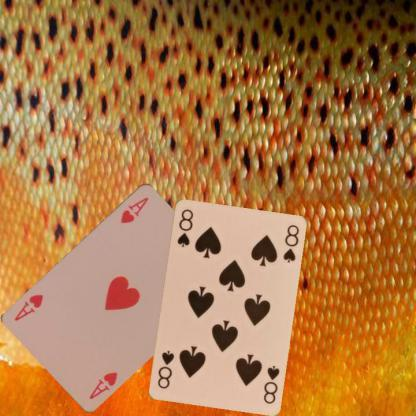8s: (260, 362, 280, 405), (175, 206, 194, 248)
Ah: (86, 368, 119, 400), (118, 194, 150, 224)
